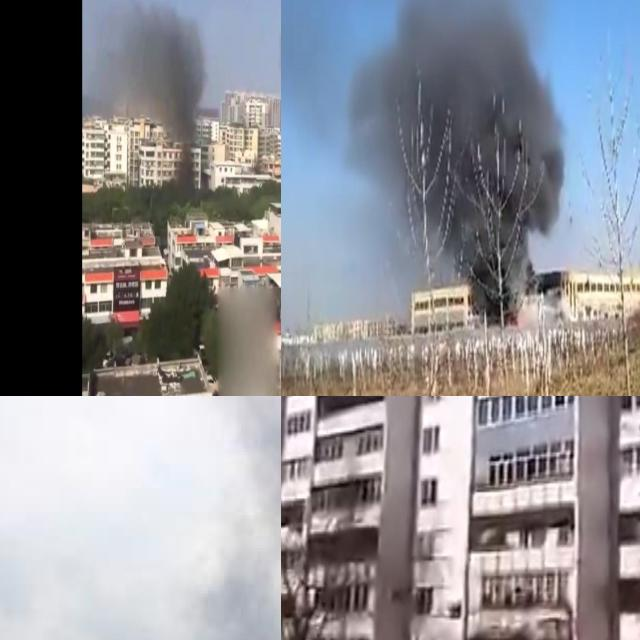smoke: (342, 0, 565, 331), (85, 396, 281, 640), (114, 1, 203, 120)
